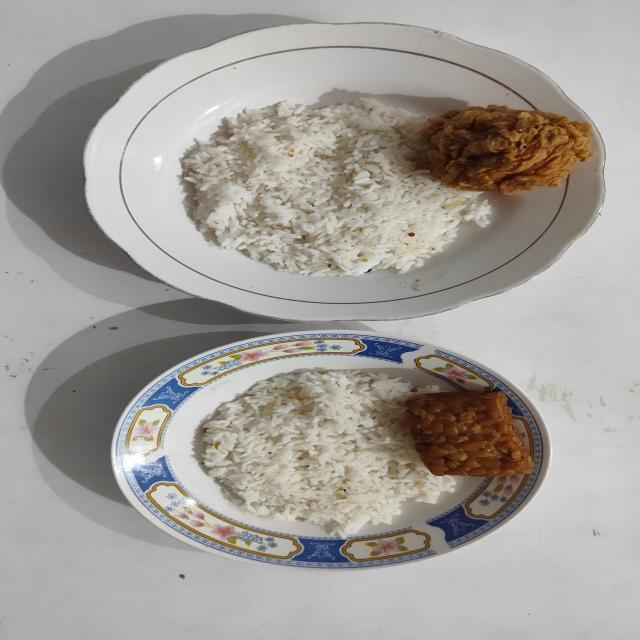nasi_putih: (180, 98, 490, 276), (194, 369, 456, 537)
tempe_goreng: (405, 388, 533, 478)
